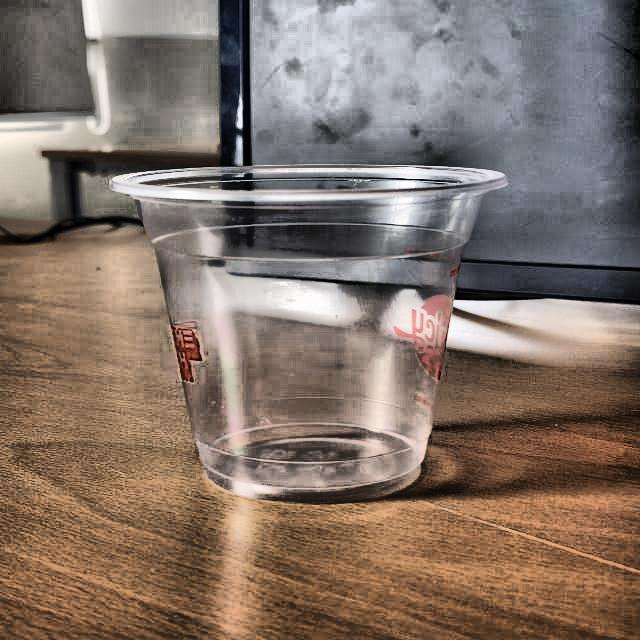plastic cup: (107, 163, 506, 502)
